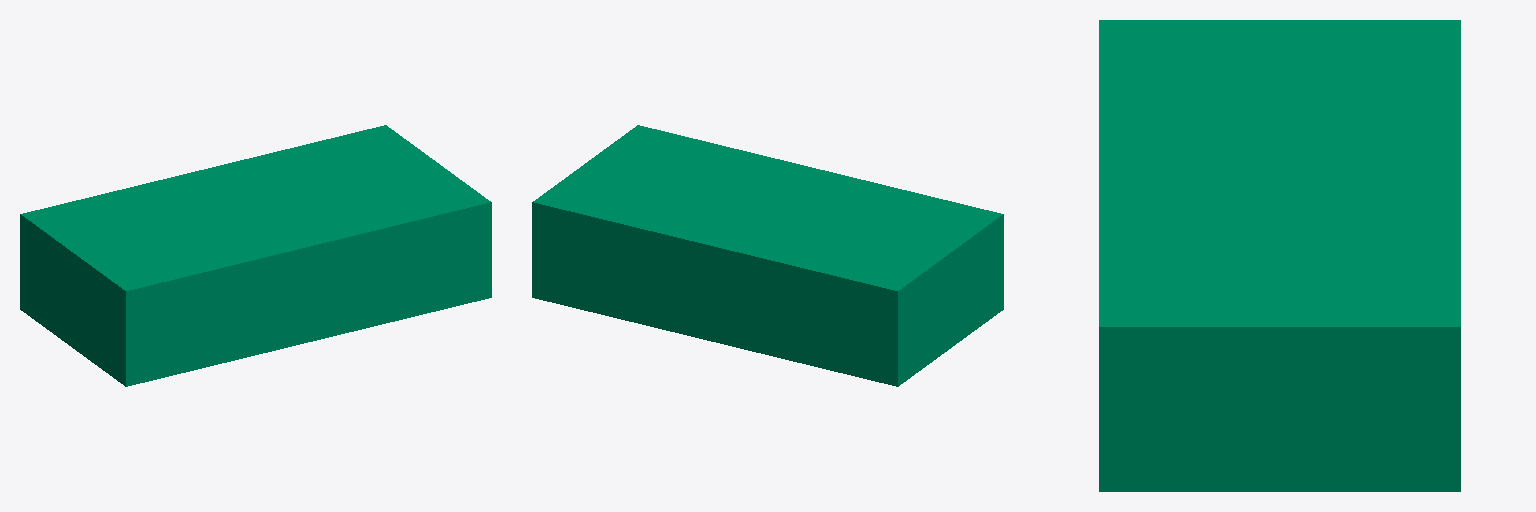
The robot description file, URDF, robot "tactile_test":
<?xml version="1.0"?>
<robot name="tactile_test">
  <link name="world"/>
  <link name="base">
    <inertial><mass value="1"/><inertia ixx="0.1" ixy="0" ixz="0" iyy="0.1" iyz="0" izz="0.1"/></inertial>
  </link>
  <joint name="mount" type="fixed"><parent link="world"/><child link="base"/></joint>
  <link name="pad">
    <inertial><origin xyz="0 0 0"/><mass value="1"/>
      <inertia ixx="0.01" ixy="0" ixz="0" iyy="0.01" iyz="0" izz="0.01"/>
    </inertial>
    <collision><geometry><box size="0.08 0.04 0.02"/></geometry></collision>
    <visual><geometry><box size="0.08 0.04 0.02"/></geometry></visual>
  </link>
  <joint name="slide" type="prismatic">
    <parent link="base"/><child link="pad"/><origin xyz="0 0 0.03"/>
    <axis xyz="0 0 1"/><limit lower="-1" upper="1" effort="100" velocity="1"/>
  </joint>
</robot>

--- What the picture shows (computed from the rendered views, not written in the file) ---
The picture shows the robot from 3 angles, left to right: view 1: azimuth 30°, elevation 25°; view 2: azimuth 150°, elevation 25°; view 3: azimuth 270°, elevation 25°; orthographic projection.
Model tactile_test with 3 links and 2 joints (1 prismatic, 1 fixed), rooted at world, posed all joints at 0.
Visible links, largest first — view 1: pad; view 2: pad; view 3: pad.
Link boxes in pixels (x1,y1,x2,y2): pad: [20, 125, 491, 386]; pad: [532, 125, 1003, 386]; pad: [1099, 20, 1460, 491].
Size in the robot's own frame: 0.08 by 0.04 by 0.02 metres.
Geometry: primitives only (box / cylinder / sphere), no mesh files.
